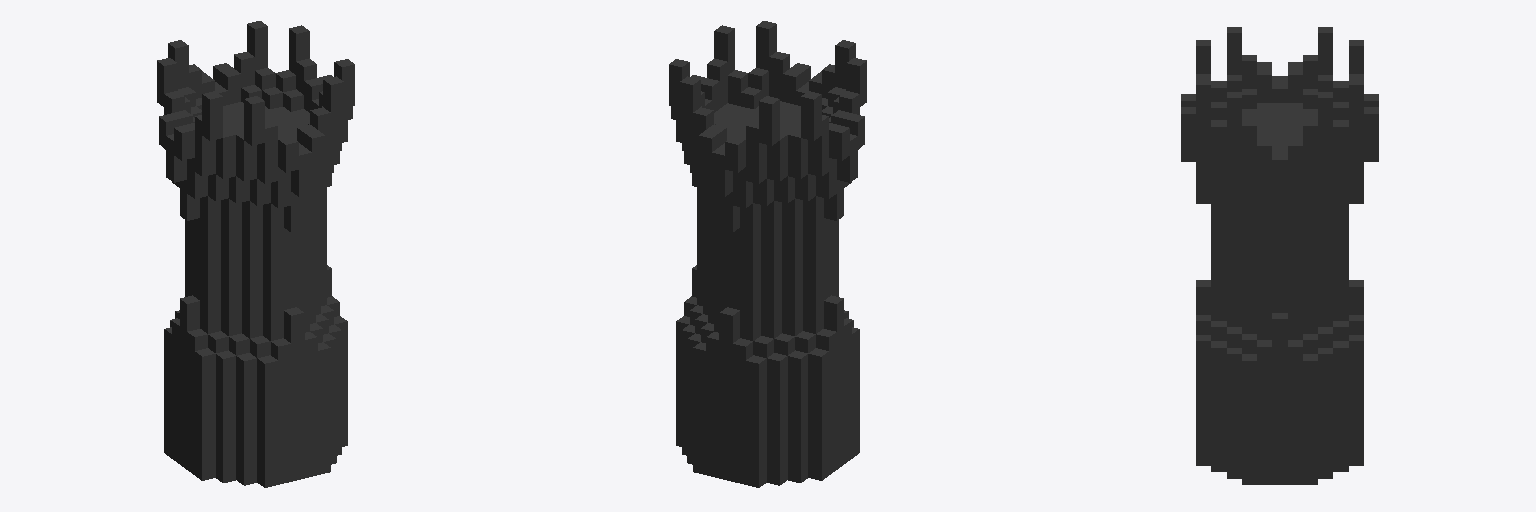
The picture shows the model from 3 angles: view 1: azimuth 30°, elevation 25°; view 2: azimuth 150°, elevation 25°; view 3: azimuth 270°, elevation 25°; orthographic projection.
Parts seen in each view (by area): view 1: object 1; view 2: object 1; view 3: object 1.
Part boxes in pixels (bbox=[...]): object 1: bbox=[157, 21, 354, 487]; object 1: bbox=[669, 21, 866, 487]; object 1: bbox=[1181, 27, 1378, 484].
Size of the model in its own units: 1.3 by 2.8 by 1.3.
1 materials, 1 textured.